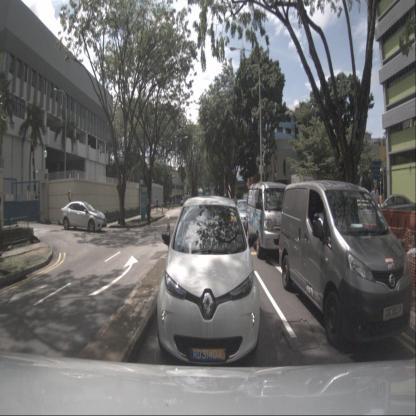human-pedestrian-adult: (370, 184, 381, 236), (146, 198, 151, 226), (156, 196, 158, 211)
movable_object-barrier: (377, 209, 411, 259), (348, 208, 378, 246)
vehicle-car: (278, 180, 412, 348), (157, 195, 260, 366), (245, 181, 296, 259), (59, 201, 107, 232), (378, 194, 415, 227), (233, 199, 256, 234), (179, 199, 190, 207)
